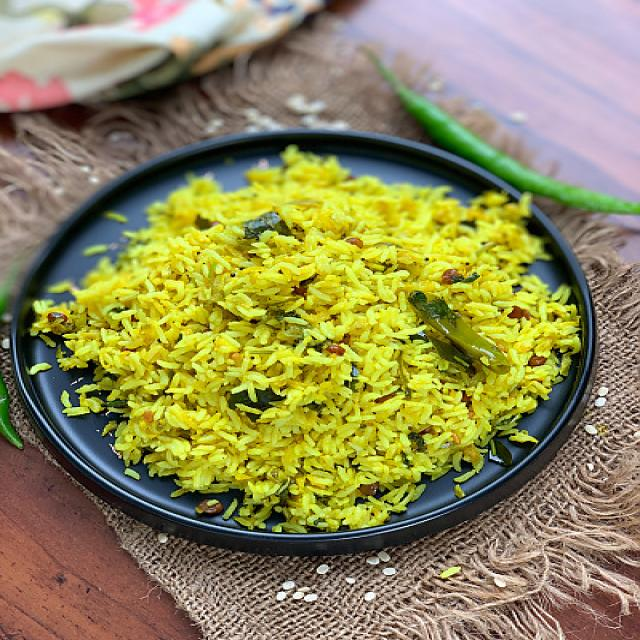lemon rice: (11, 133, 612, 546)
